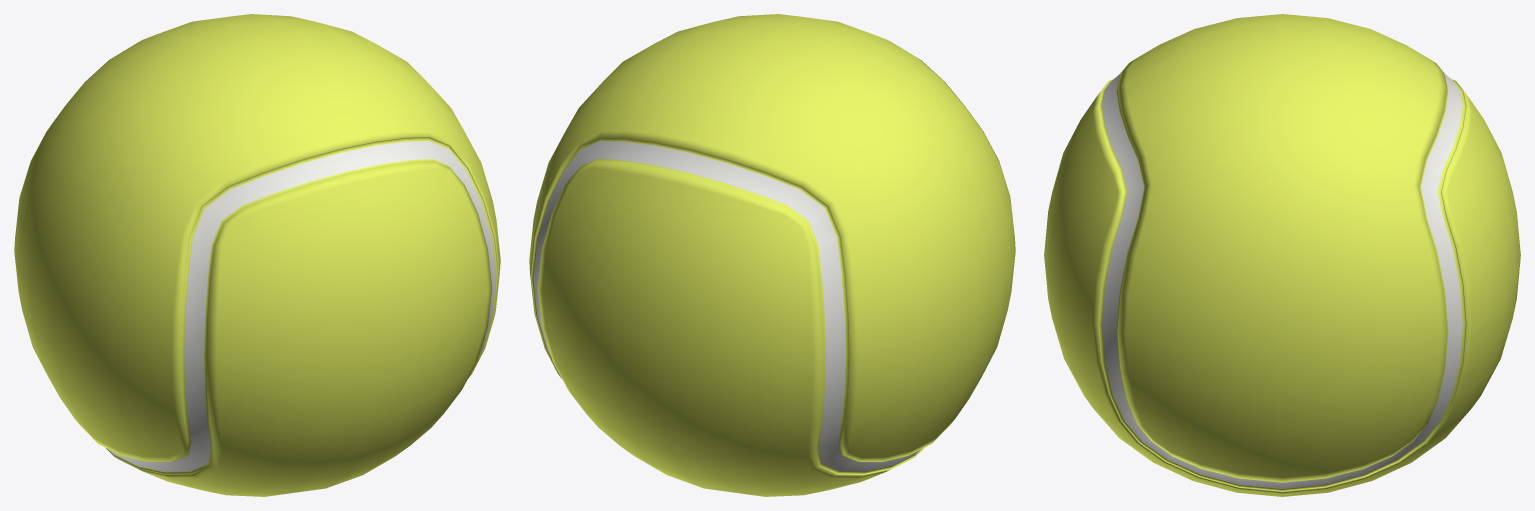
Rendered from ball.glb.
3 renders of one model, left to right at view 1: azimuth 30°, elevation 25°; view 2: azimuth 150°, elevation 25°; view 3: azimuth 270°, elevation 25°, orthographic.
Visible parts, largest first — view 1: Padel000; view 2: Padel000; view 3: Padel000.
Boxes of the visible parts, x1,y1,x2,y2 form: Padel000: [14, 14, 500, 496]; Padel000: [529, 14, 1015, 496]; Padel000: [1044, 14, 1520, 496].
Bounding box in the file's own units: 0.065 × 0.065 × 0.065.
